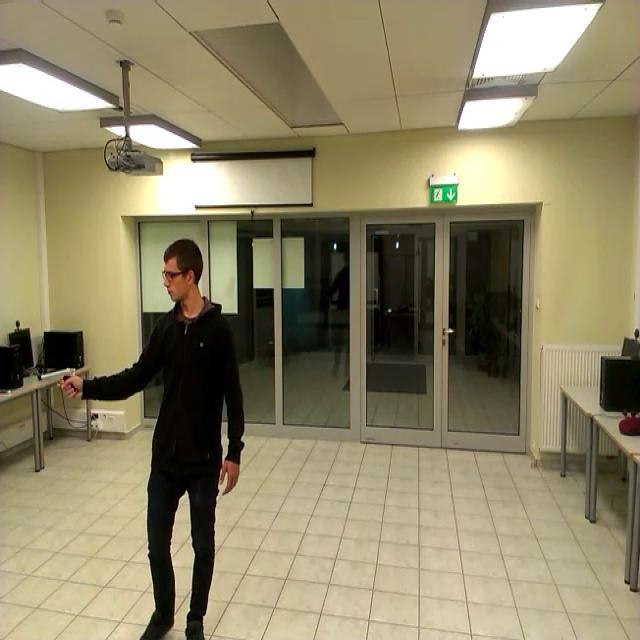Gun: (38, 356, 79, 404)
